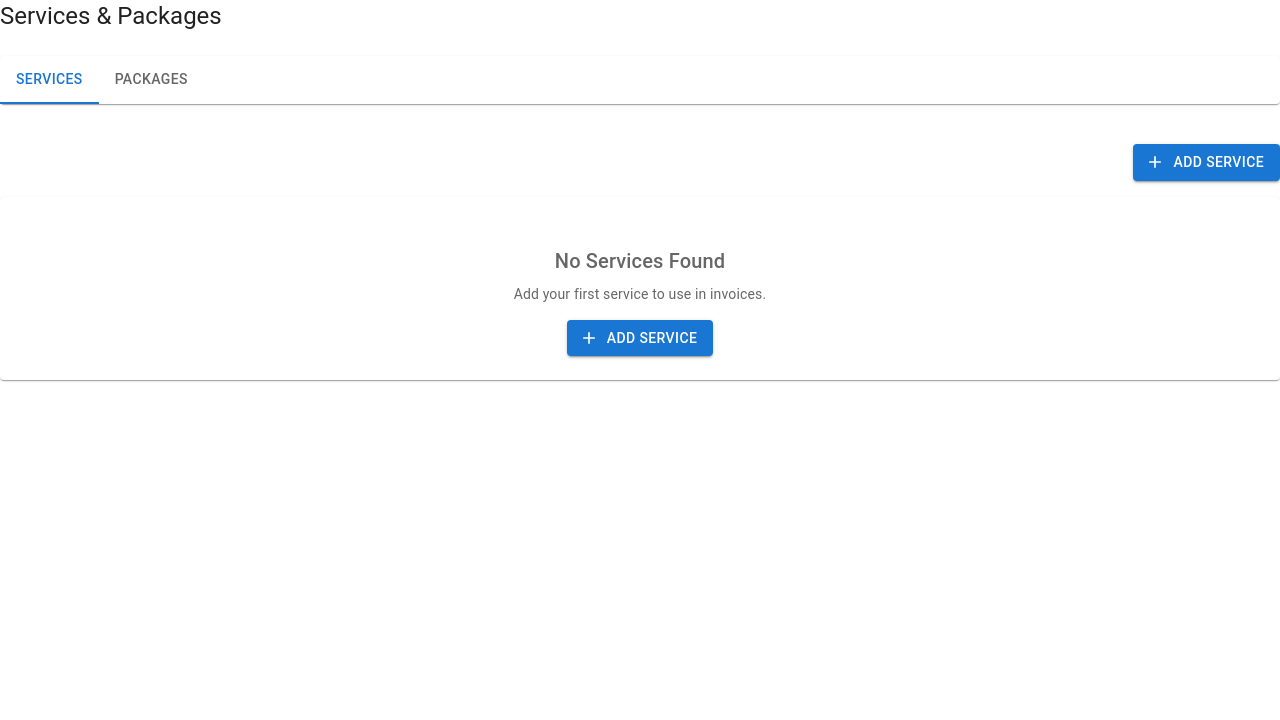
Test case: Services Component › Services Tab › Add Service Dialog › should close dialog when clicking Cancel
Expected: the heading "No Services Found" is shown, 555,248 -> 725,272
Step 1. Click the 1st button "Add Service" → (1207, 162), box 1133,144 -> 1279,180
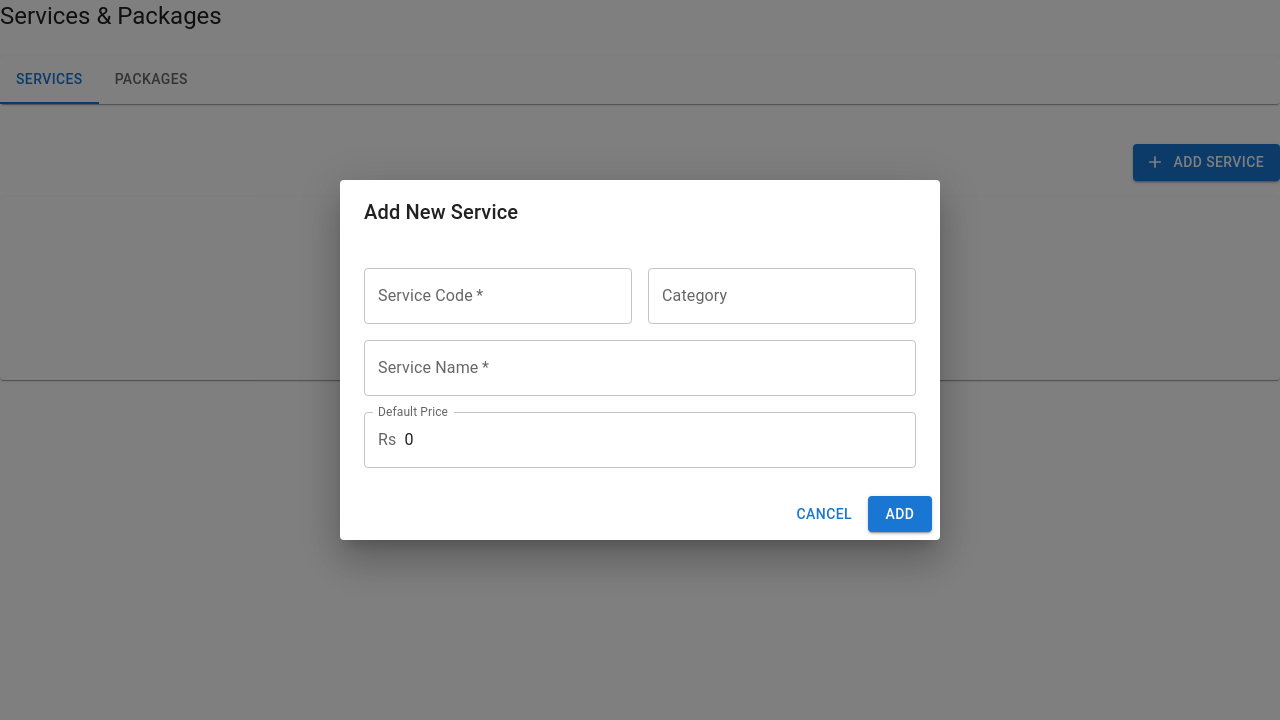
Expected: the heading "Add New Service" is shown, 364,200 -> 518,224
Step 2. Click the button "Cancel" → (824, 514), box 788,496 -> 860,532
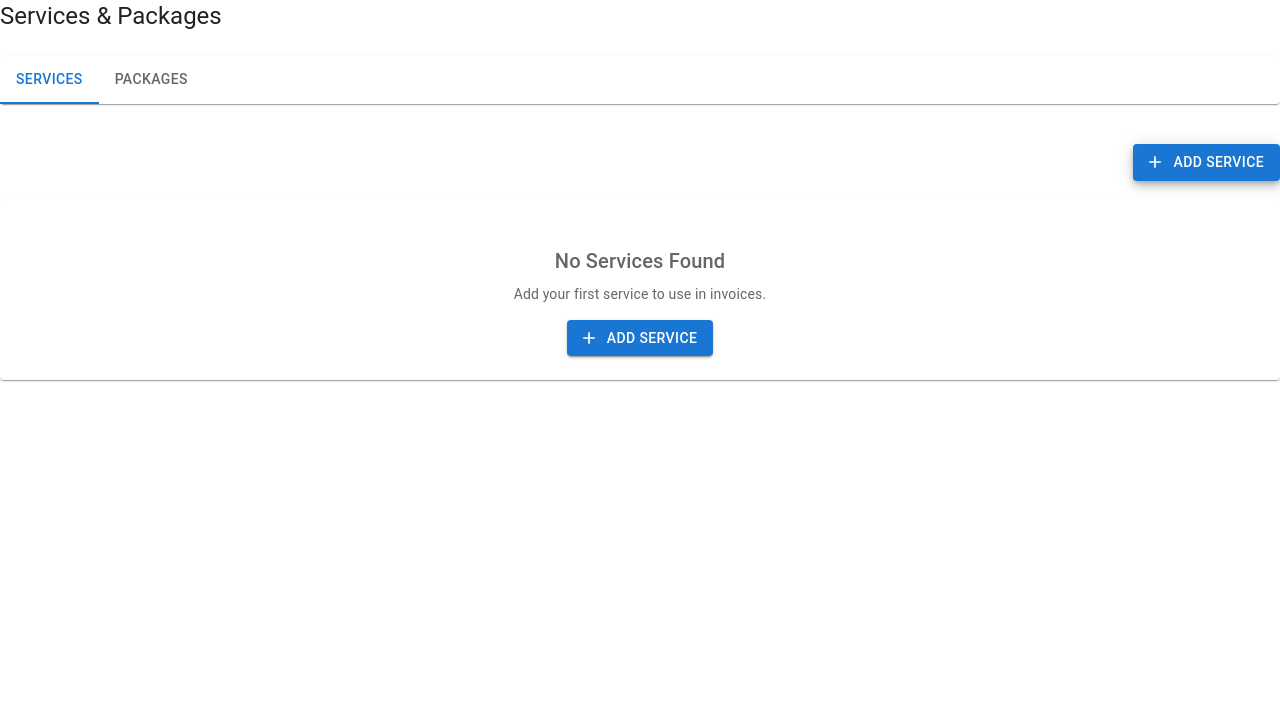
Expected: the heading "Add New Service" is gone
